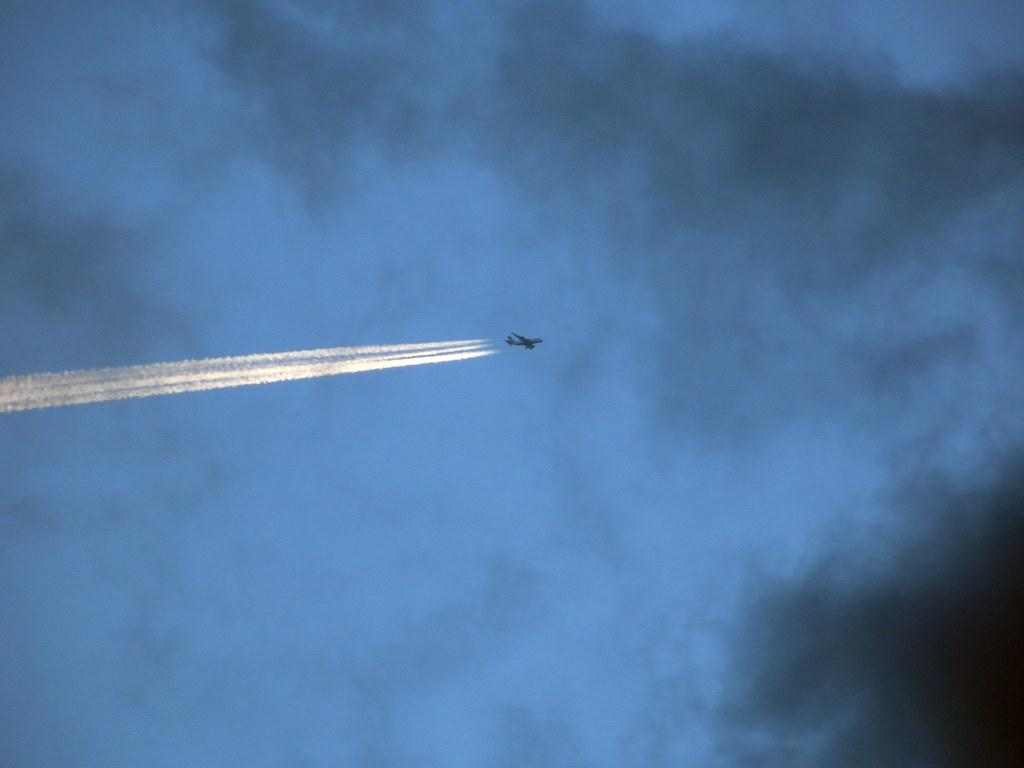plane: (505, 332, 544, 351)
